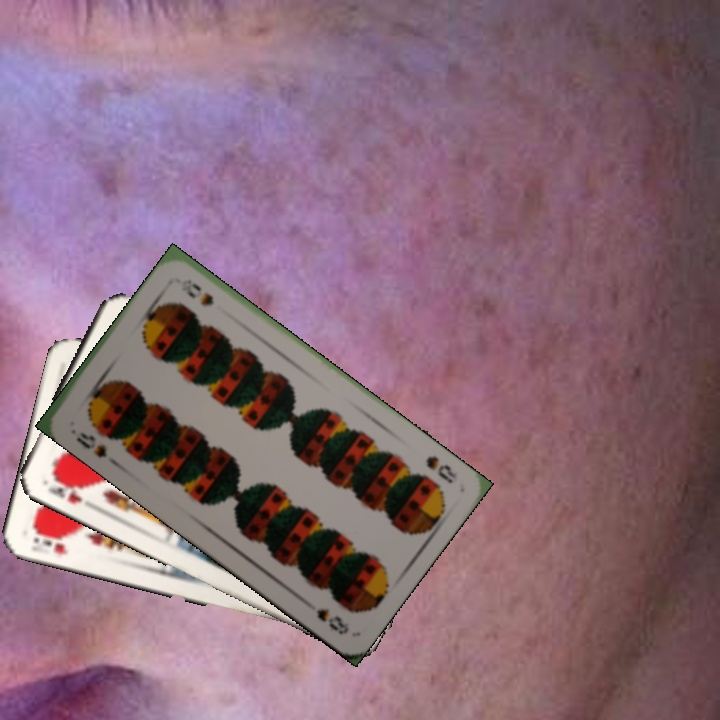HK: (43, 470, 86, 506), (28, 526, 72, 558)
S8: (421, 451, 459, 486), (72, 427, 110, 461)
